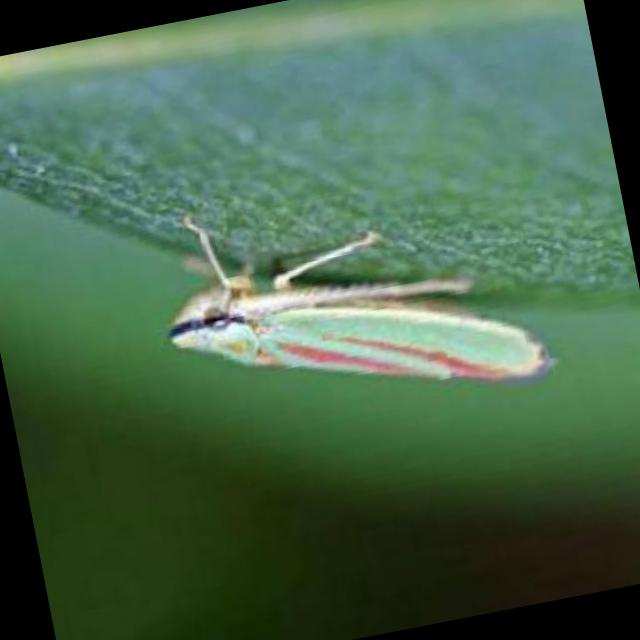green-leafhopper: (141, 205, 559, 453)
